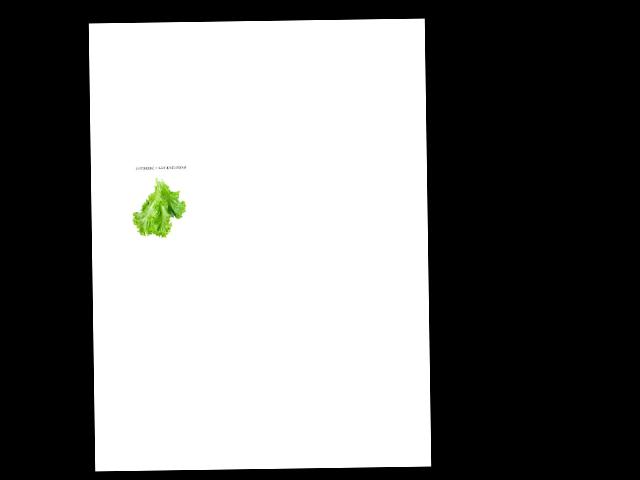lettuce: (132, 173, 187, 239)
